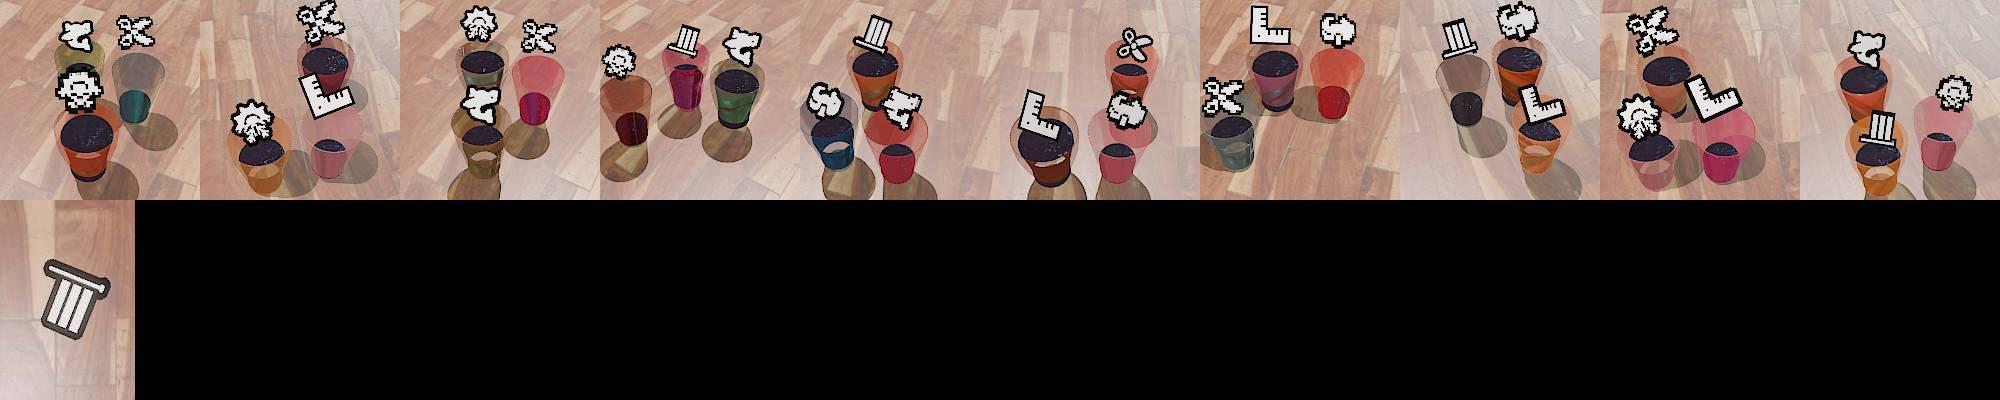icon: (38, 256, 115, 341), (1684, 73, 1744, 124), (297, 70, 355, 121), (1625, 5, 1677, 57), (55, 62, 103, 115), (1018, 88, 1065, 141), (1616, 93, 1663, 141), (296, 0, 346, 45), (230, 98, 276, 144), (1518, 83, 1566, 126), (878, 87, 922, 131), (1105, 88, 1149, 130), (1249, 4, 1292, 46), (719, 25, 763, 68), (1202, 76, 1244, 118), (459, 83, 503, 124), (1440, 15, 1481, 59), (1495, 1, 1538, 41), (853, 14, 894, 55), (805, 82, 844, 120), (460, 5, 499, 45), (115, 14, 156, 51), (1318, 11, 1356, 50), (1939, 74, 1977, 112), (666, 20, 704, 59), (520, 18, 560, 55), (1117, 27, 1154, 64), (1848, 29, 1886, 65), (601, 43, 636, 80), (59, 19, 96, 54), (1865, 110, 1897, 144)
